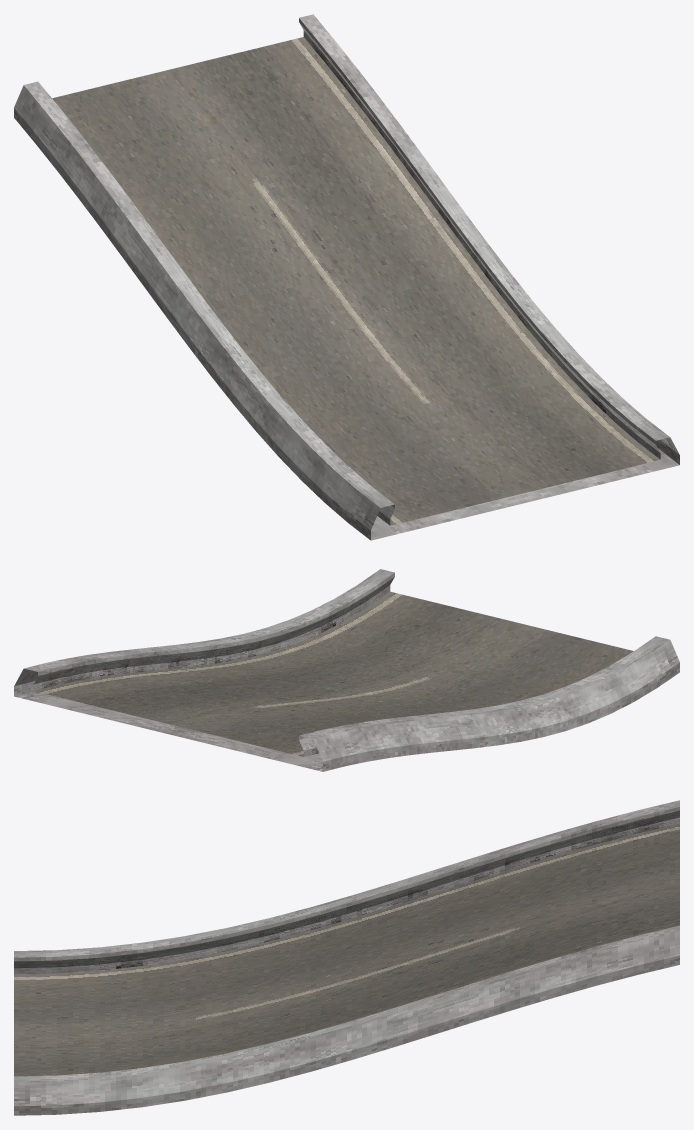
File: road-Straight-Flat-BiSlopeUp-Up2-Center-Size2.glb
3 views of the same model, one above another, from view 1: azimuth 30°, elevation 25°; view 2: azimuth 150°, elevation 25°; view 3: azimuth 270°, elevation 25° (orthographic). The views are drawn at different scales.
Visible parts, largest first — view 1: road-Straight-Flat-BiSlopeUp-Up2-Center-Size2; view 2: road-Straight-Flat-BiSlopeUp-Up2-Center-Size2; view 3: road-Straight-Flat-BiSlopeUp-Up2-Center-Size2.
Part boxes in pixels (box(x1,y1,x2,y2)): road-Straight-Flat-BiSlopeUp-Up2-Center-Size2: box(14, 14, 679, 540); road-Straight-Flat-BiSlopeUp-Up2-Center-Size2: box(14, 569, 679, 771); road-Straight-Flat-BiSlopeUp-Up2-Center-Size2: box(14, 800, 679, 1115).
Size of the model in its own units: 1 by 0.5938 by 2.
Materials: 2 (2 with a texture image).
